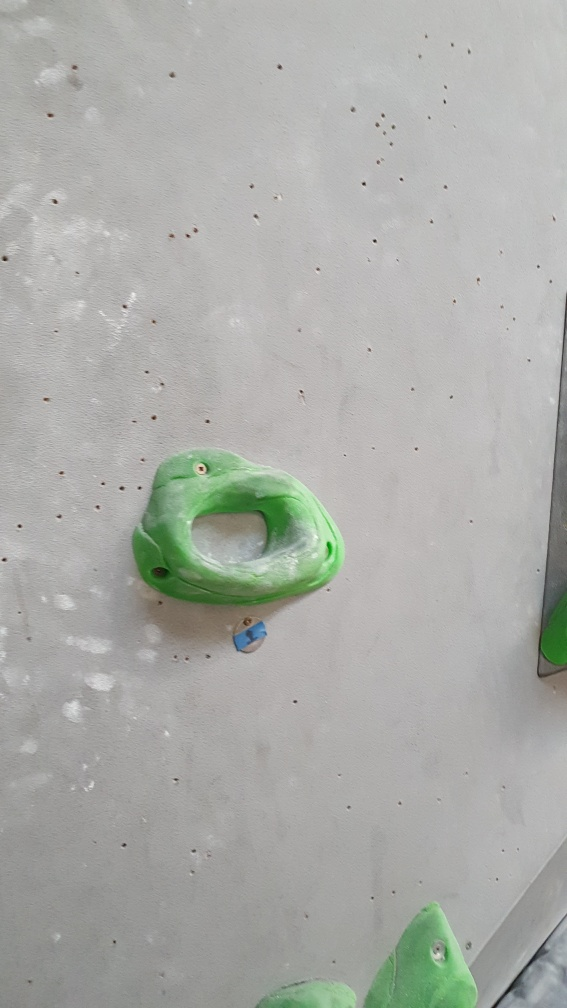Hand Start: (228, 616, 272, 654)
Pocket: (128, 447, 348, 608)
